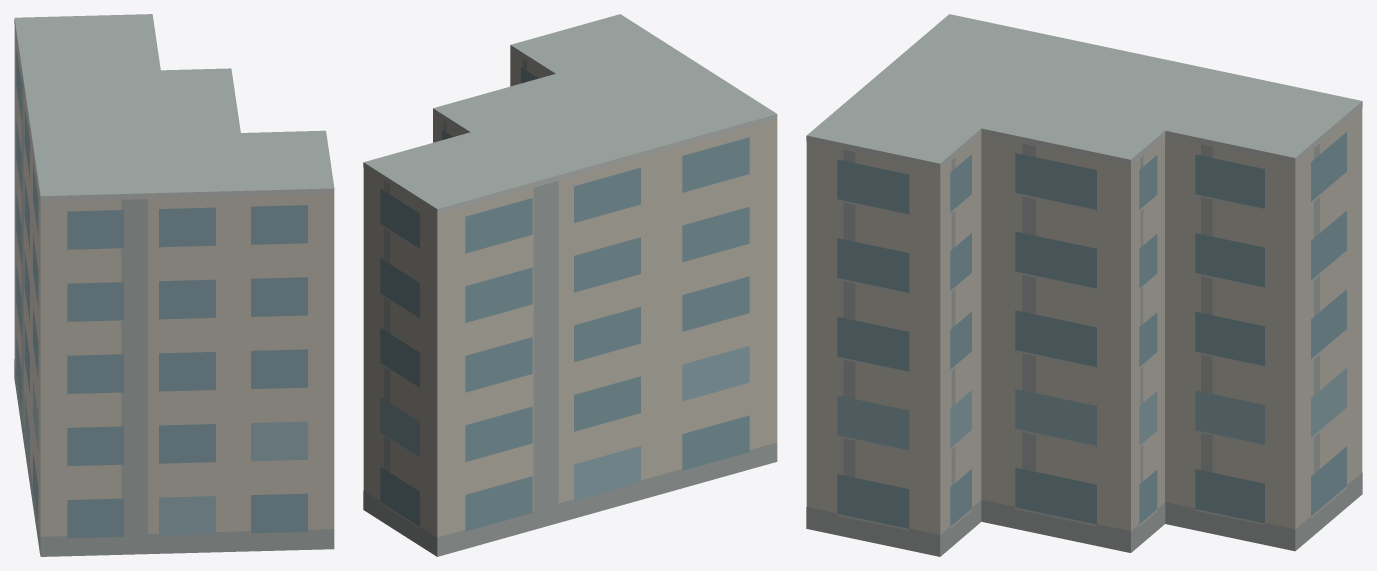
File: residential-05b9ee8c-a6af-4915-82f8-ef2234aa2516.glb
The picture shows the model from 3 angles, left to right: view 1: azimuth 30°, elevation 25°; view 2: azimuth 150°, elevation 25°; view 3: azimuth 270°, elevation 25°; orthographic projection. The views are drawn at different scales.
Parts seen in each view (by area): view 1: residential-05b9ee8c-a6af-4915-82f8-ef2234aa2516.tmp; view 2: residential-05b9ee8c-a6af-4915-82f8-ef2234aa2516.tmp; view 3: residential-05b9ee8c-a6af-4915-82f8-ef2234aa2516.tmp.
Part boxes in pixels (x1=…): residential-05b9ee8c-a6af-4915-82f8-ef2234aa2516.tmp: x1=14, y1=14, x2=334, y2=556; residential-05b9ee8c-a6af-4915-82f8-ef2234aa2516.tmp: x1=363, y1=14, x2=777, y2=556; residential-05b9ee8c-a6af-4915-82f8-ef2234aa2516.tmp: x1=806, y1=14, x2=1362, y2=556.
Size of the model in its own units: 12.45 by 15.25 by 19.55.
